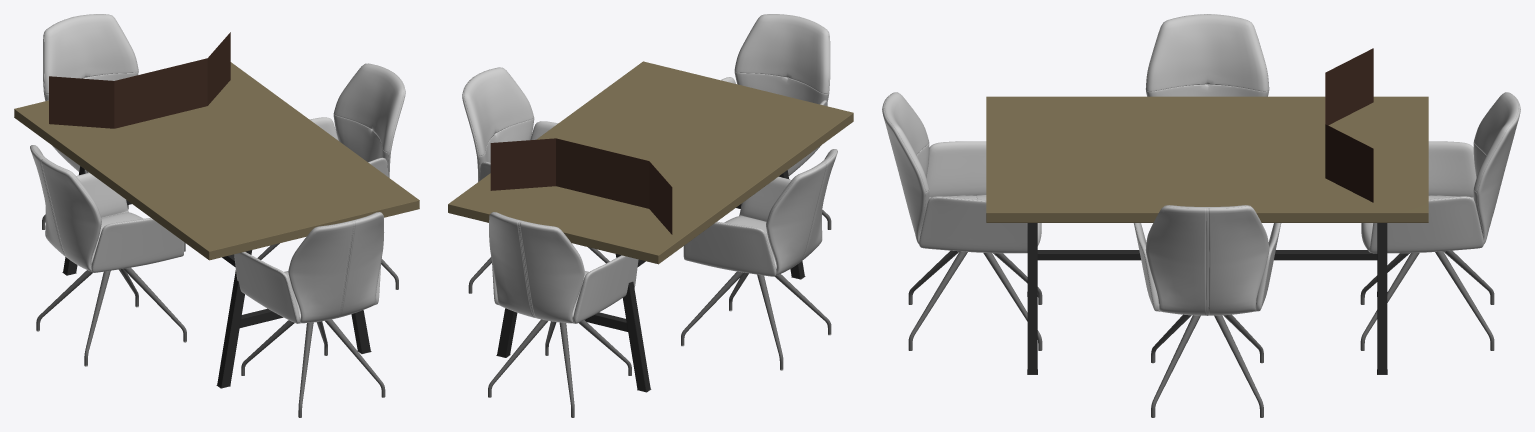
Rendered from Room.fbx.
3 renders of one model, left to right at view 1: azimuth 30°, elevation 25°; view 2: azimuth 150°, elevation 25°; view 3: azimuth 270°, elevation 25°, orthographic. The views are drawn at different scales.
Parts seen in each view (by area): view 1: Plane.006, Line021.002, Line021, Plane, Line021.001, Line021.003; view 2: Plane.006, Line021.003, Line021, Plane, Line021.002, Line021.001; view 3: Plane.006, Line021.001, Line021.002, Line021.003, Line021, Plane.
Part boxes in pixels (<box>): Plane.006: <box>14,62,419,388</box>; Line021.002: <box>234,212,385,417</box>; Line021: <box>30,145,186,365</box>; Plane: <box>49,32,230,128</box>; Line021.001: <box>257,63,405,289</box>; Line021.003: <box>42,14,185,251</box>; Plane.006: <box>448,61,853,392</box>; Line021.003: <box>488,212,638,417</box>; Line021: <box>681,149,837,369</box>; Plane: <box>490,138,672,234</box>; Line021.002: <box>721,14,831,229</box>; Line021.001: <box>462,67,609,293</box>; Plane.006: <box>986,96,1428,374</box>; Line021.001: <box>1133,205,1281,417</box>; Line021.002: <box>882,92,1042,350</box>; Line021.003: <box>1360,92,1520,350</box>; Line021: <box>1145,14,1269,96</box>; Plane: <box>1325,48,1373,202</box>.
Size of what is drawn, in the model's own units: 1.68 by 0.9309 by 2.32.
